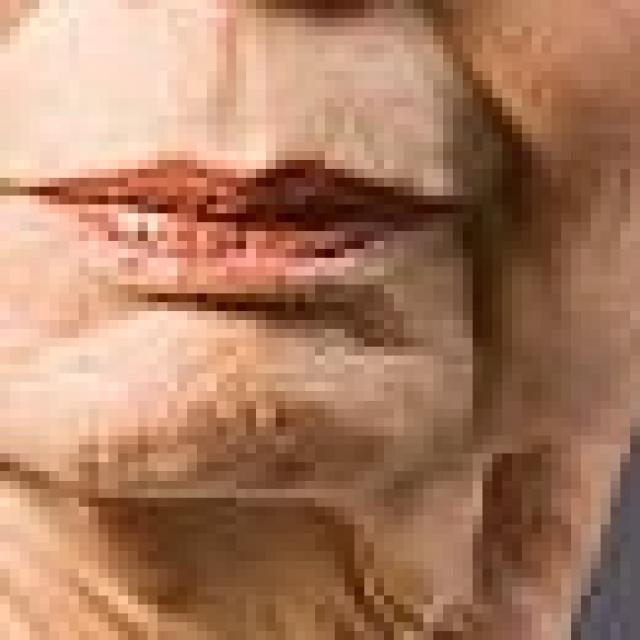closed-mouth: (0, 151, 473, 302)
